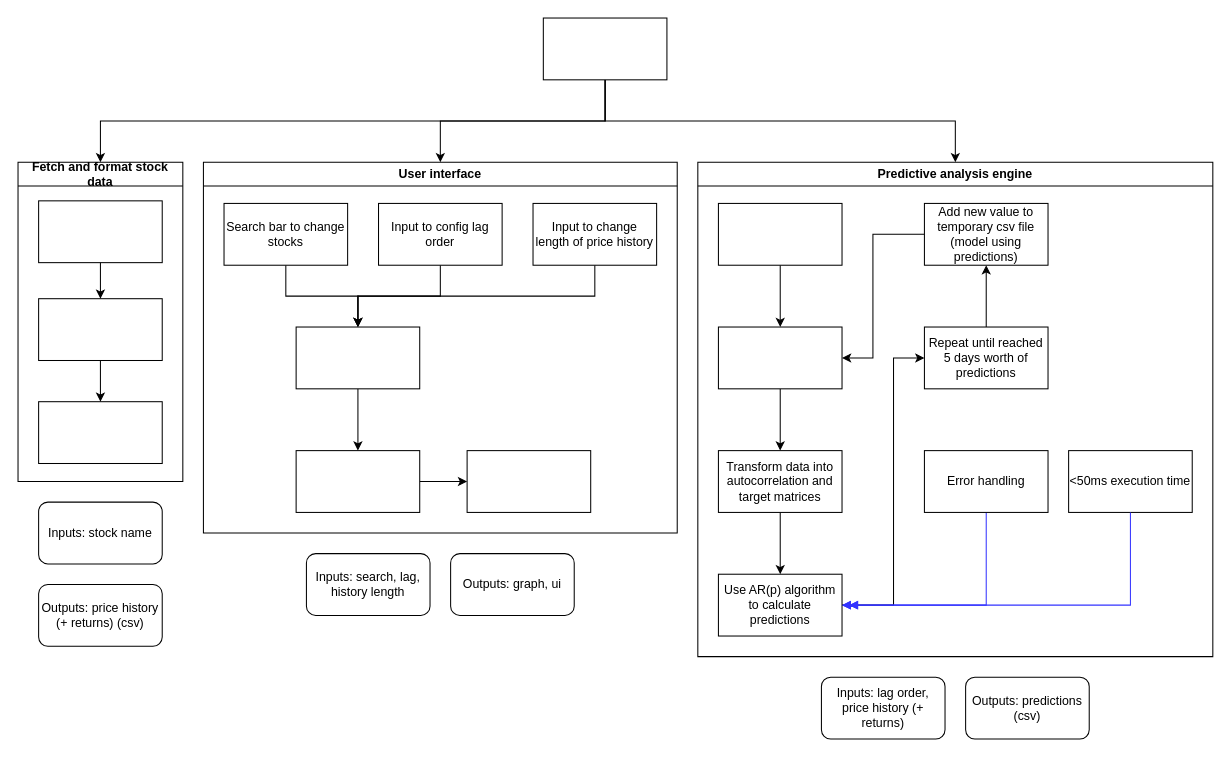
This 1231x757 diagram has some shape labels left out. The shapes that lost their labels are listed below. From the top down, each one's centre as x and y in pixels, then its label:
the point at 604,48: Predictive Modelling Project
the point at 100,231: Fetch stock history using yfinance
the point at 779,233: Read CSV contents and get lag order
the point at 100,329: Generate daily return using pandas
the point at 357,357: Button to start AR predictions
the point at 779,357: Transform CSV contents into std::vector
the point at 100,432: Pack into CSV
the point at 357,481: Graph to show results
the point at 528,481: Colour coded points to differentiate actual/predicted values
